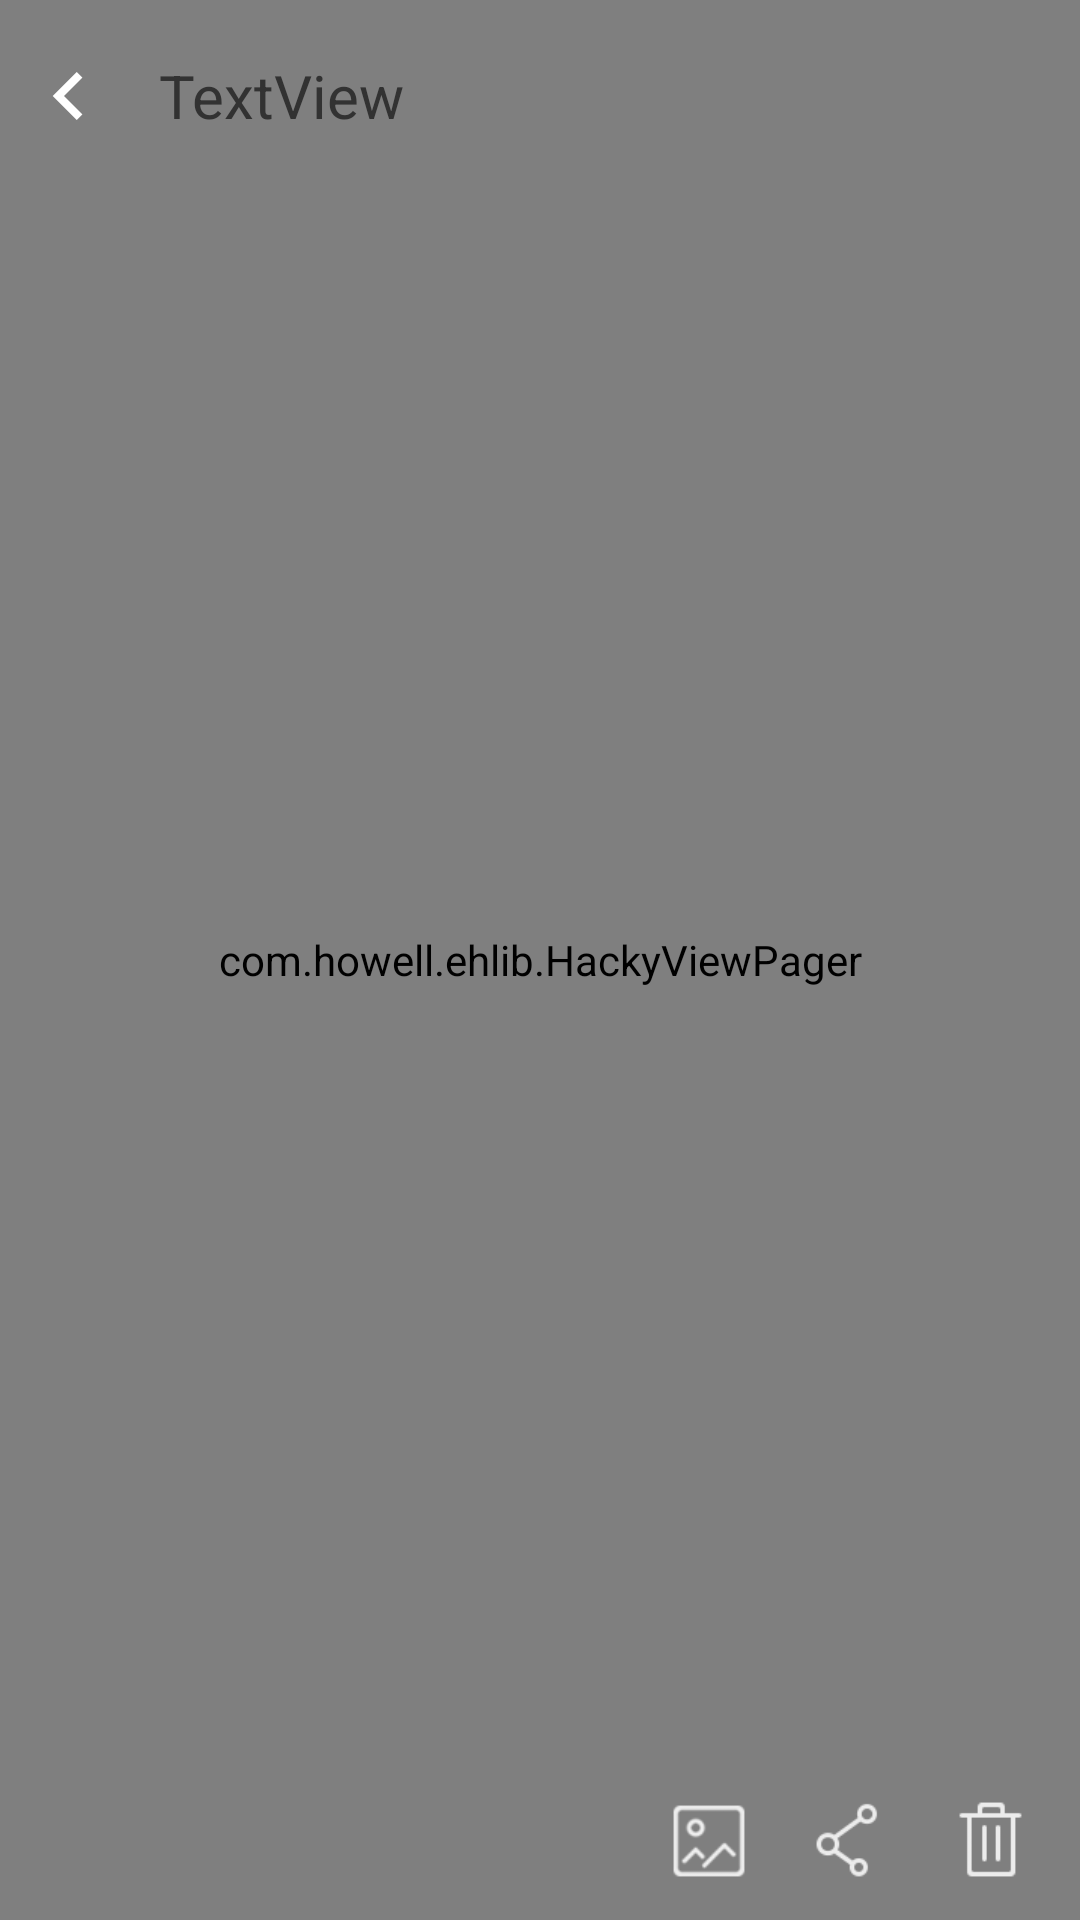

Where to tap for icons on this 1080 x 1920 app screen, as point (x, y):
back: point (67, 96)
delete: point (990, 1839)
share: point (846, 1840)
